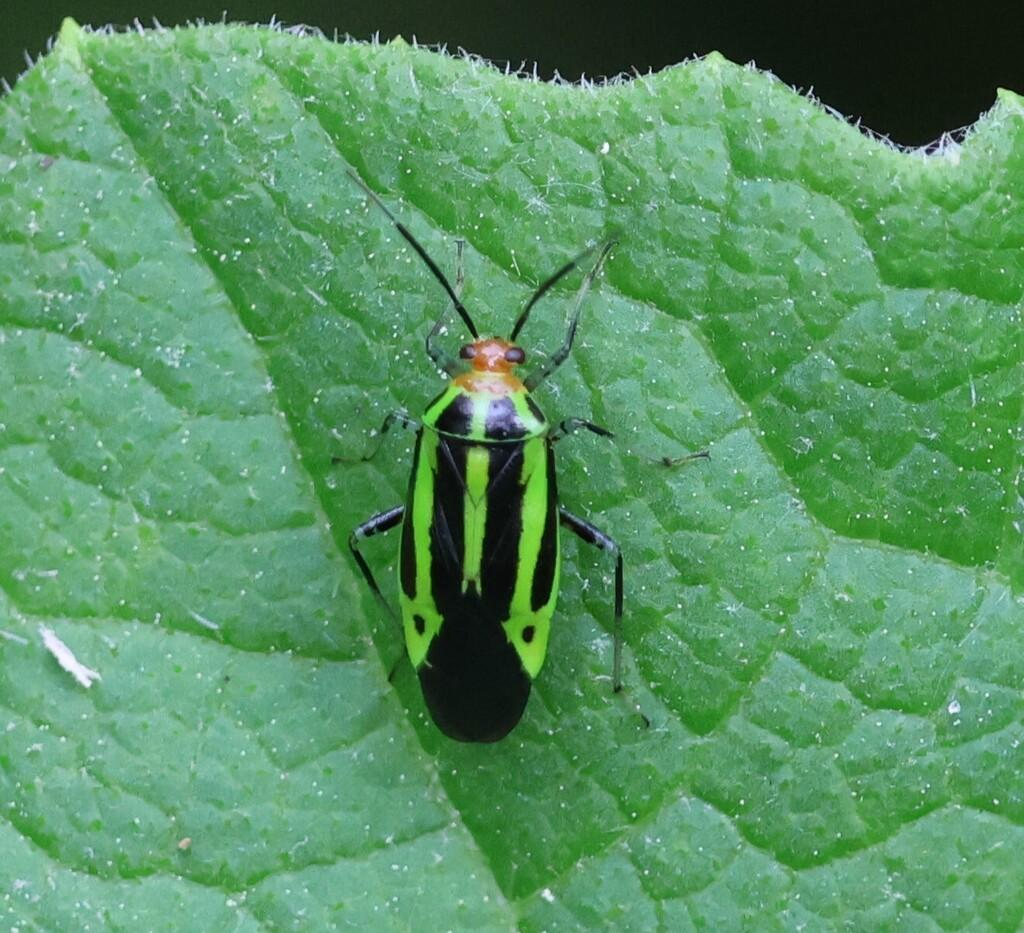plant_bugs: (296, 145, 691, 782)
